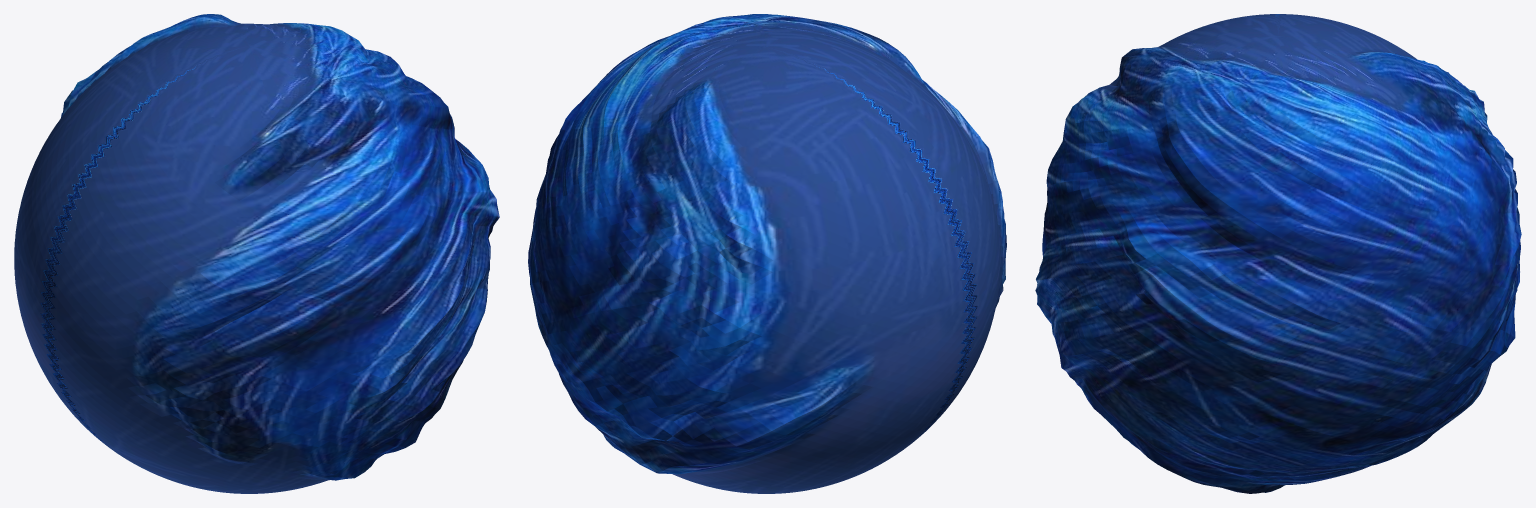
The model's file is sonic.fbx.
The picture shows the model from 3 angles, left to right: view 1: azimuth 30°, elevation 25°; view 2: azimuth 150°, elevation 25°; view 3: azimuth 270°, elevation 25°; orthographic projection.
Parts seen in each view (by area): view 1: Sphere; view 2: Sphere; view 3: Sphere.
Boxes of the visible parts, <box> form: Sphere: <box>14,14,499,493</box>; Sphere: <box>528,14,1006,493</box>; Sphere: <box>1035,14,1521,493</box>.
Bounding box in the file's own units: 205 × 200 × 207.
